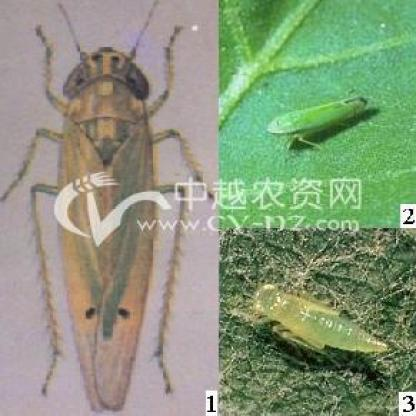Green-Leafhopper: (9, 2, 216, 413), (230, 273, 393, 368), (266, 90, 378, 156)
